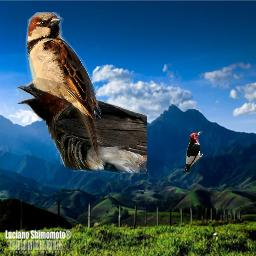Swallow: (15, 70, 147, 174), (25, 12, 101, 157)
Woodpecker: (183, 131, 203, 172)
